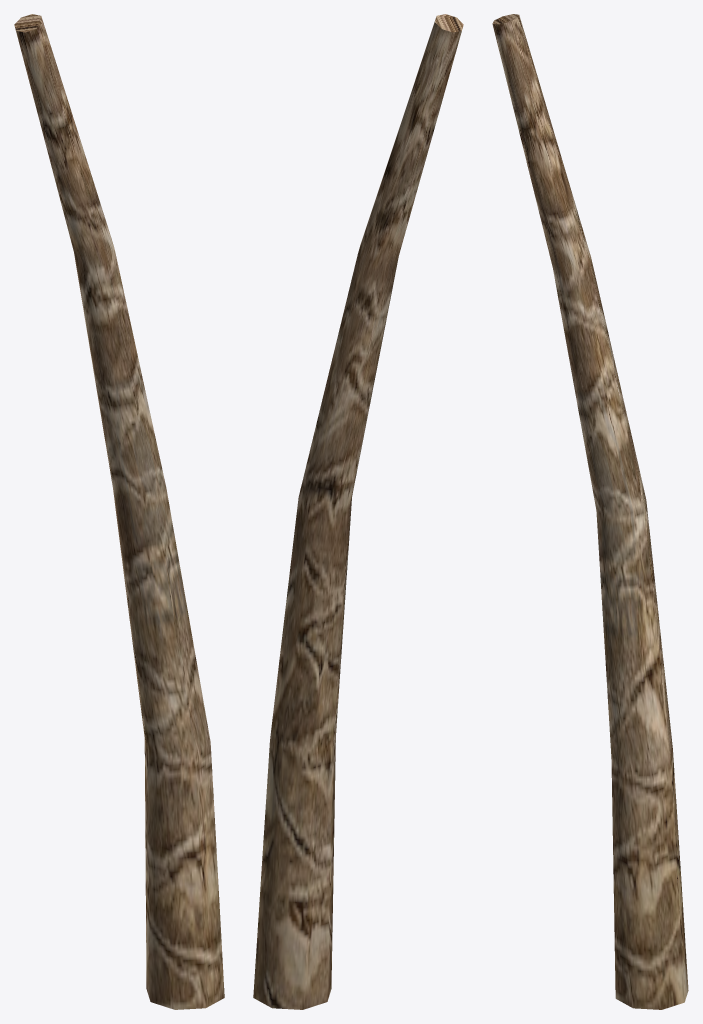
File: palmTrunk.obj
3 views of the same model, side by side, from view 1: azimuth 30°, elevation 25°; view 2: azimuth 150°, elevation 25°; view 3: azimuth 330°, elevation 25° (orthographic). The views are drawn at different scales.
Parts seen in each view (by area): view 1: Cylinder002; view 2: Cylinder002; view 3: Cylinder002.
Boxes of the visible parts, x1,y1,x2,y2 form: Cylinder002: (14,14,224,1009); Cylinder002: (253,14,463,1009); Cylinder002: (492,14,688,1009).
Size of the model in its own units: 26.51 by 125 by 9.14.
